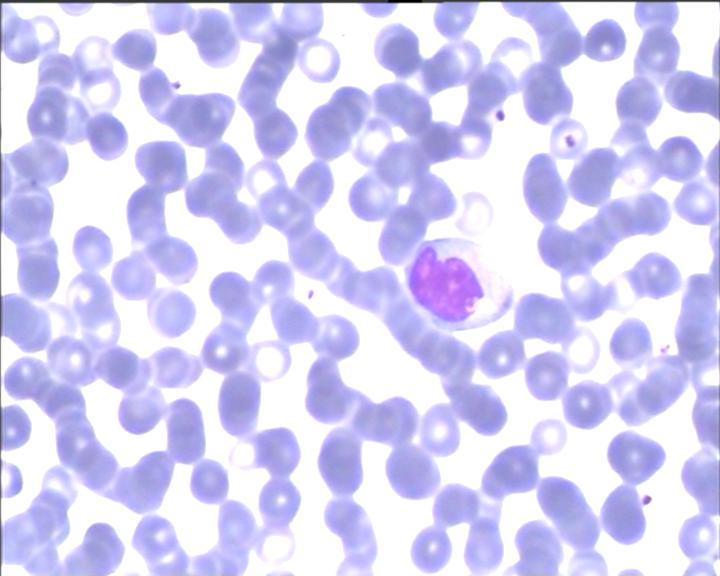mono: (396, 238, 517, 335)
